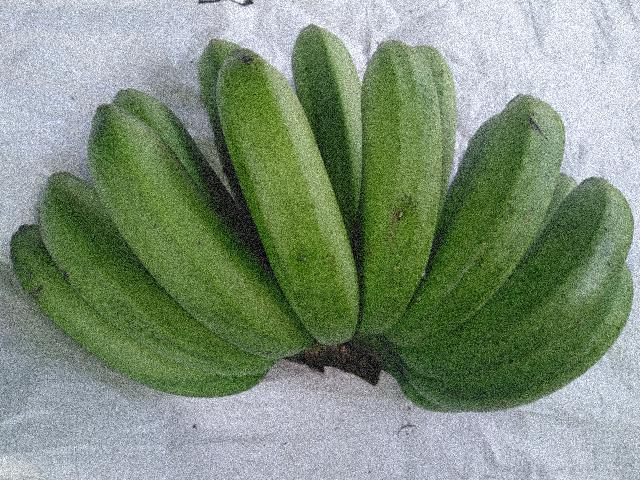unripe: (214, 39, 369, 395), (404, 90, 565, 396), (79, 96, 264, 339), (344, 27, 445, 354)
